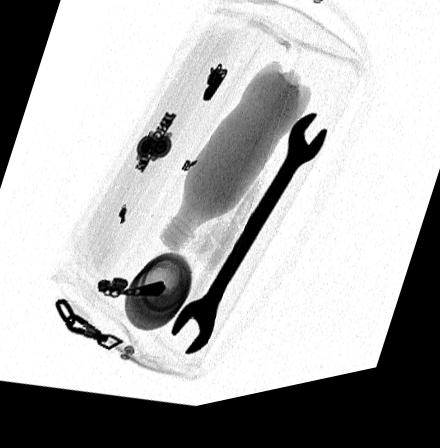Wrench: (171, 125, 326, 362)
